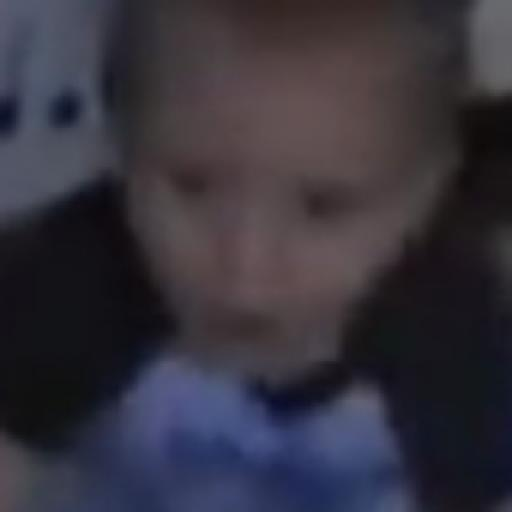Autism: (79, 10, 506, 390)
